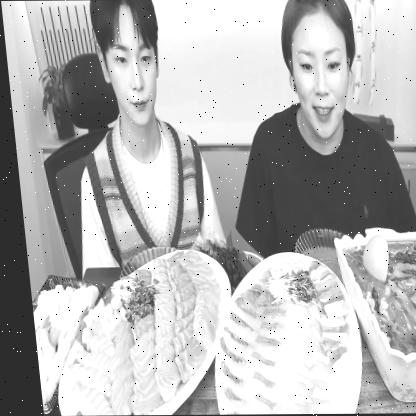streamer: (212, 0, 416, 248), (52, 0, 223, 280)
